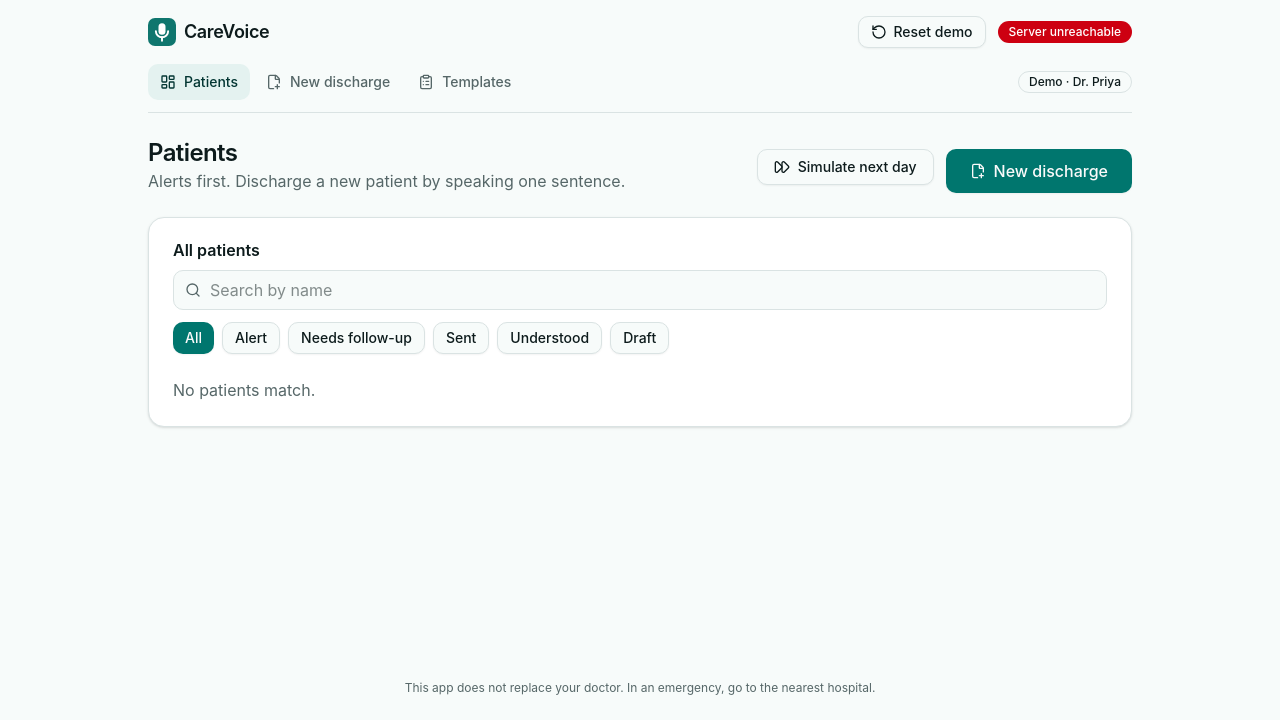
Test case: simulate next day reports the new day and reminders sent
Click the button "Simulate next day".
click(845, 167)  # box [757,149,934,185]
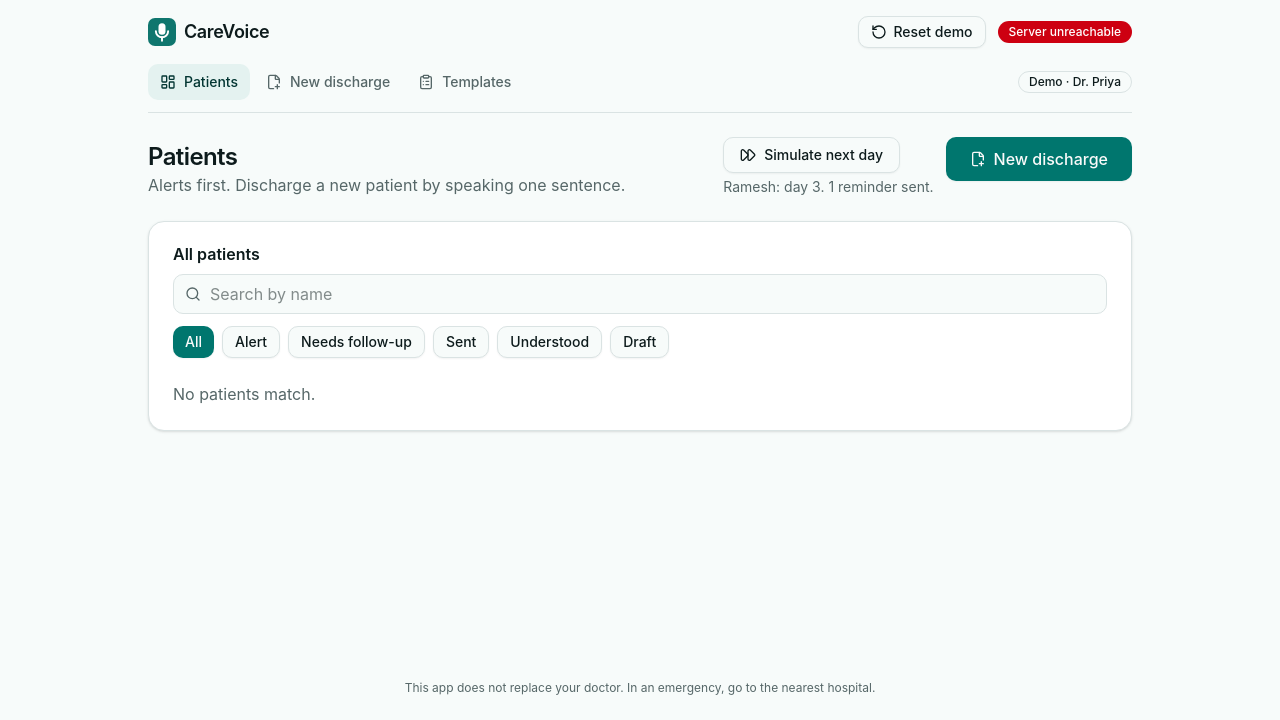
Result: the text "Ramesh: day 3. 1 reminder sent." is shown at [723,177,934,197]
